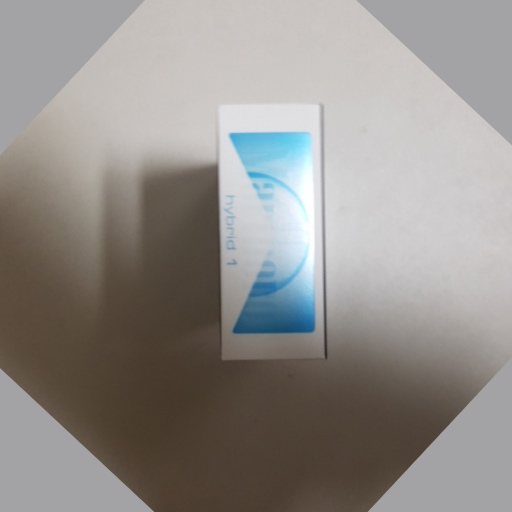Paper_0: (186, 98, 338, 376)
